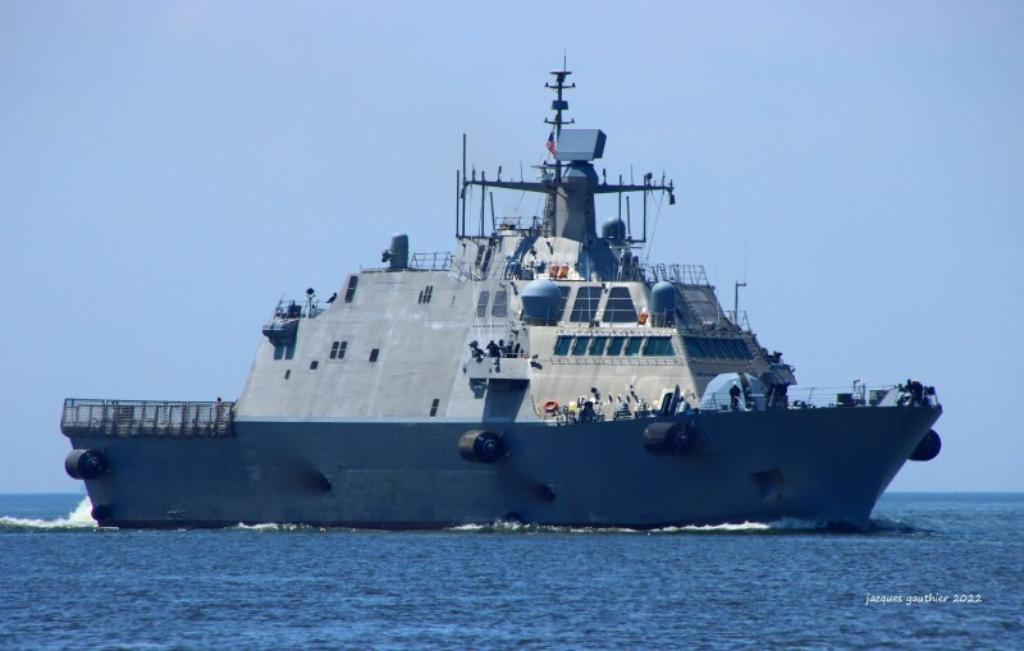Warship: (54, 58, 944, 530)
